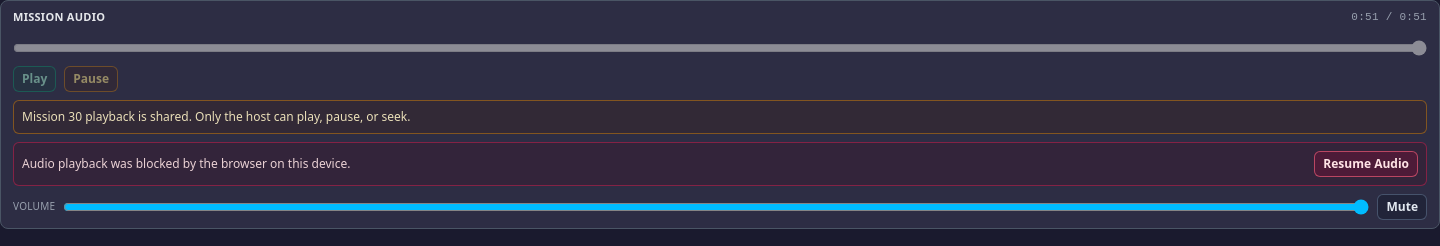
Test: MissionAudioPlayer interactions › shows a local retry button when playback is blocked on this client
The image size is (1440, 246).
Step 1. Click the button with test id "mission-audio-retry" → [1366, 164], box [1314,150,1418,176]
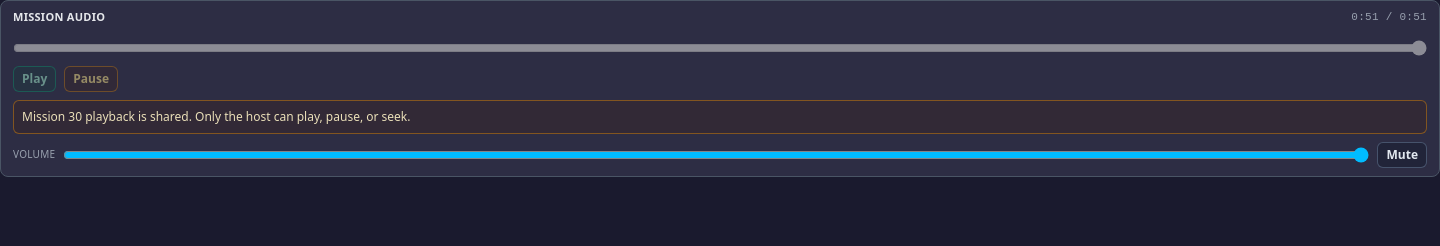
Result: the button with test id "mission-audio-retry" is gone
